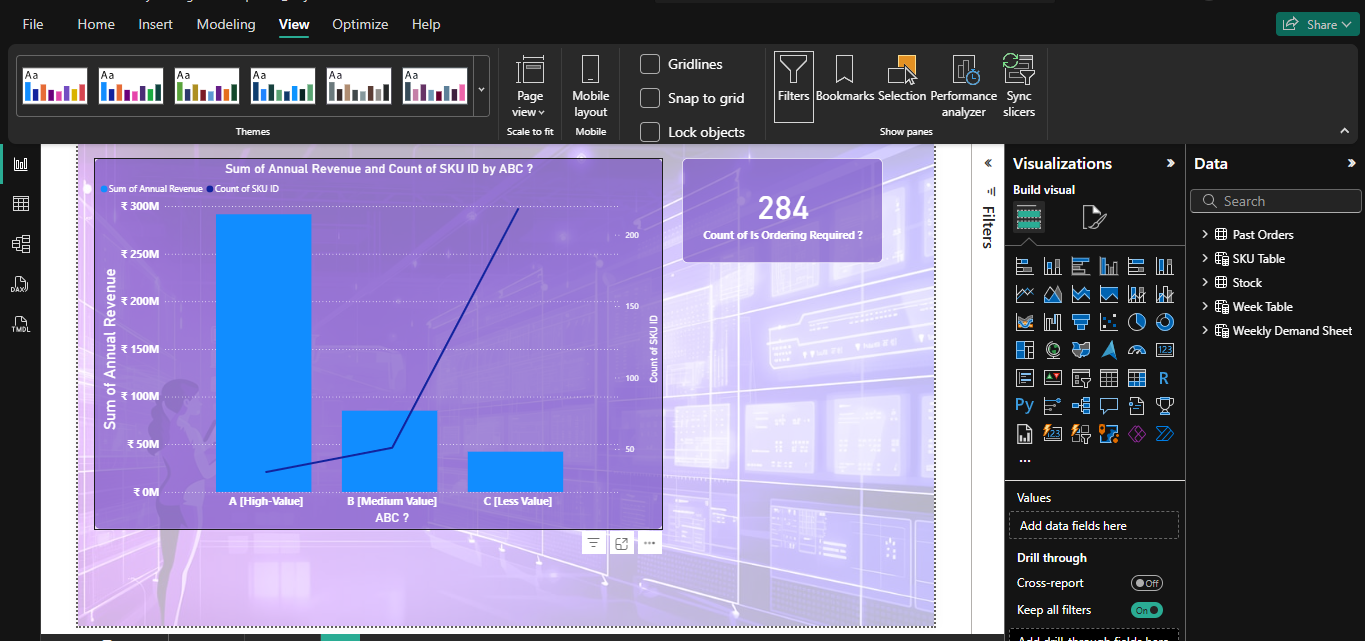

Layout of this report page (visuals, bound fields, positions):
{"tool":"powerbi","page":{"name":"Page 1","canvas":[1280,720],"ordinal":0},"visuals":[{"type":"lineStackedColumnComboChart","fields":{"Category":["Stock.ABC ?"],"Y":["Sum(Stock.Annual Revenue)"],"Y2":["CountNonNull(Stock.SKU ID)"]},"box":[24.1,20.7,850,555.2],"z":0},{"type":"card","fields":{"Values":["CountNonNull(Stock.Is Ordering Required ?)"]},"box":[901.7,20.7,300,156.9],"z":1000}]}

Visuals, with their boxes on the page's 1280x720 design canvas (x1, y1, x2, y2). These are canvas units, not pixel positions in the 1365x641 screenshot, which may show the page scaled, cropped or inside an application window:
lineStackedColumnComboChart - Stock.ABC ? x Sum(Stock.Annual Revenue): (24,21,874,576)
card - CountNonNull(Stock.Is Ordering Required ?): (902,21,1202,178)
